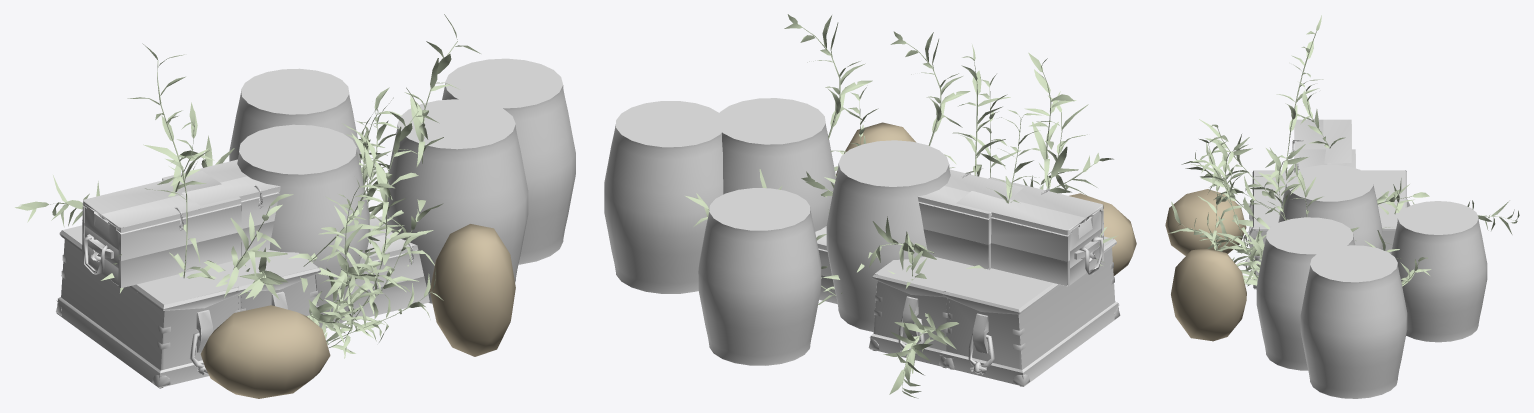
Rendered from scanned_props.glb.
3 views of the same model, side by side, from view 1: azimuth 30°, elevation 25°; view 2: azimuth 150°, elevation 25°; view 3: azimuth 270°, elevation 25° (orthographic). The views are drawn at different scales.
Visible parts, largest first — view 1: market_barrels, meadow_crates, bush_a_lod0, bush_b_lod0; view 2: market_barrels, meadow_crates, bush_b_lod0, bush_a_lod0; view 3: market_barrels, meadow_crates, bush_a_lod0, bush_b_lod0.
Part boxes in pixels (box(x1,y1,x2,y2)): market_barrels: box(56, 68, 528, 388); meadow_crates: box(162, 58, 575, 398); bush_a_lod0: box(127, 43, 443, 342); bush_b_lod0: box(15, 14, 480, 358); market_barrels: box(698, 98, 1120, 386); meadow_crates: box(604, 101, 1136, 369); bush_b_lod0: box(759, 14, 1117, 398); bush_a_lod0: box(685, 31, 1088, 304); market_barrels: box(1243, 119, 1487, 370); meadow_crates: box(1165, 149, 1407, 398); bush_a_lod0: box(1168, 15, 1431, 286); bush_b_lod0: box(1181, 82, 1519, 286).
Size of what is drawn, in the model's own units: 2.13 by 1.26 by 1.77.
